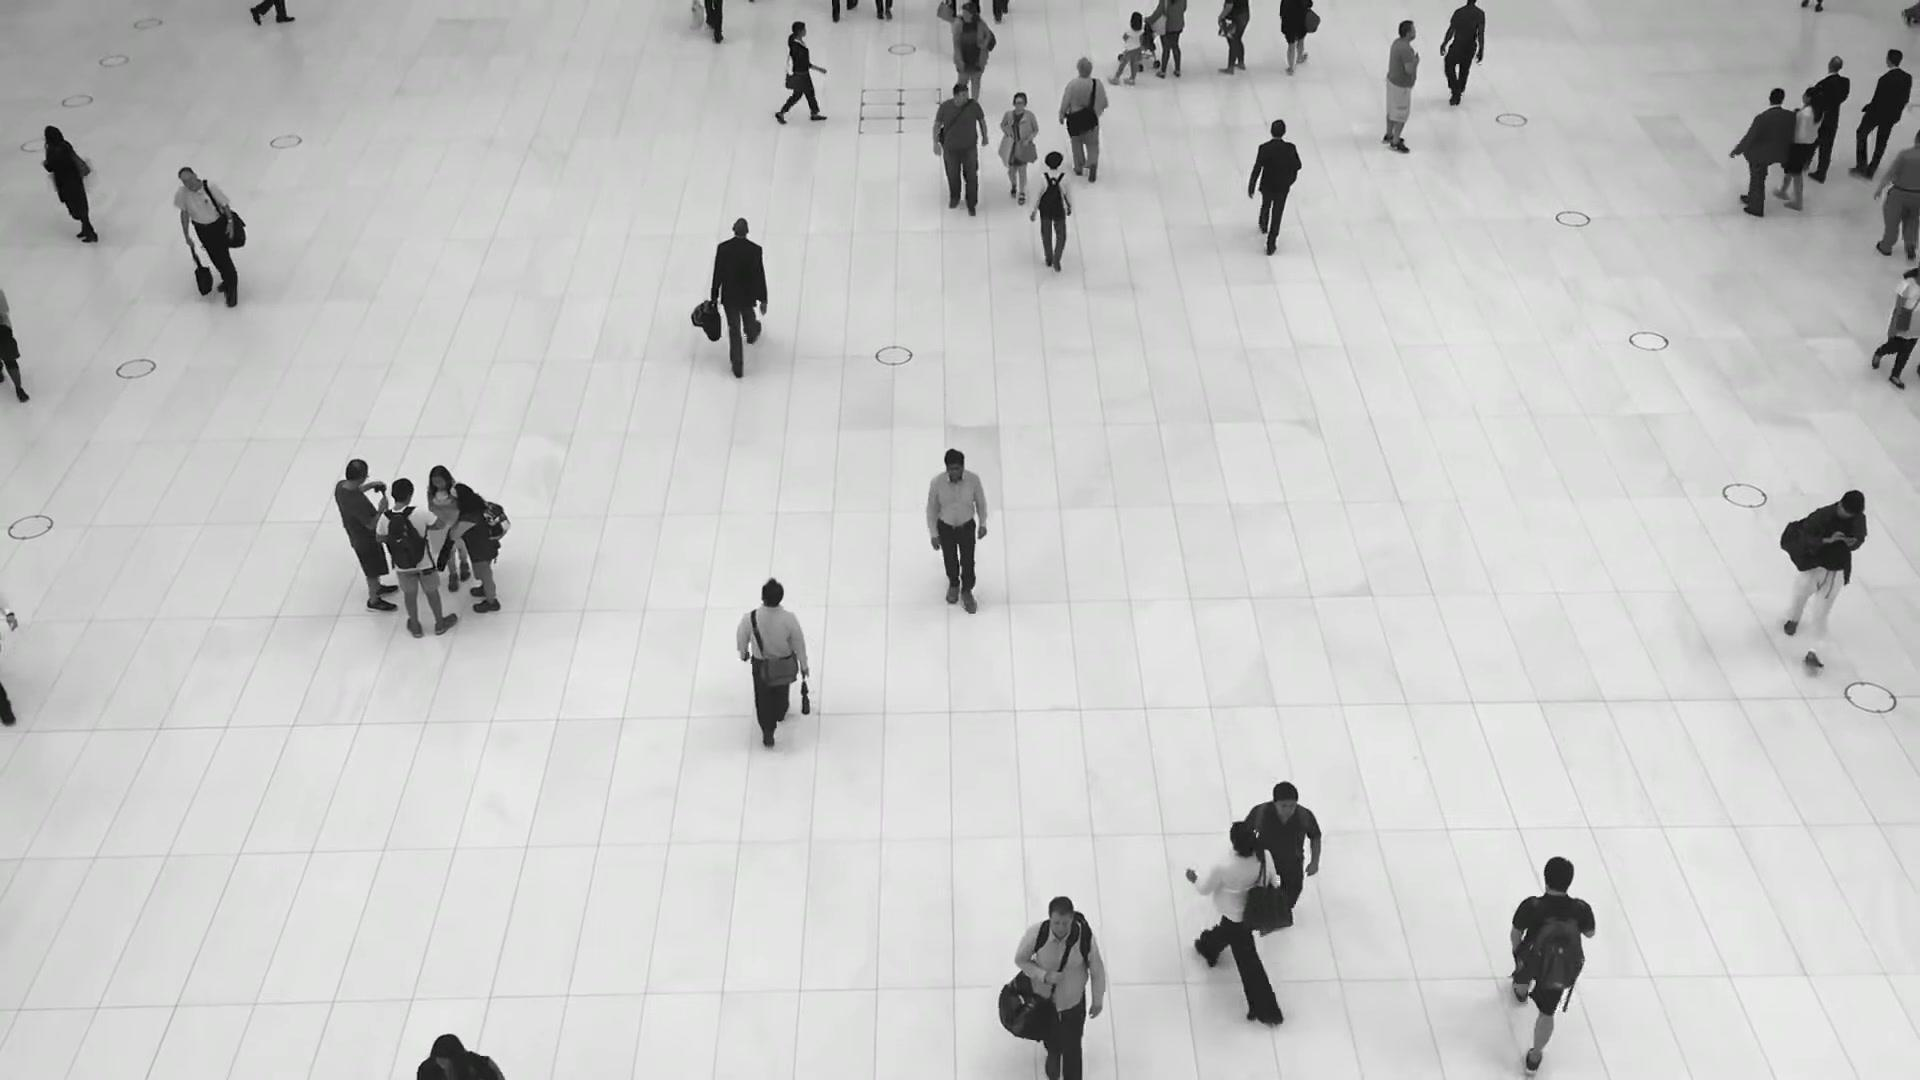person: (1506, 851, 1598, 1064), (1014, 896, 1108, 1080), (1186, 817, 1276, 1007), (1782, 489, 1869, 668), (375, 477, 460, 635), (734, 577, 809, 753), (924, 448, 992, 612), (1244, 780, 1324, 909), (334, 458, 400, 611), (173, 166, 242, 305), (711, 214, 770, 373), (1731, 86, 1795, 216), (929, 83, 990, 212), (1851, 48, 1911, 180), (1246, 116, 1303, 251), (41, 123, 99, 244), (449, 482, 501, 614), (1057, 58, 1109, 188), (1776, 85, 1824, 210), (425, 464, 470, 592), (778, 19, 831, 125), (1028, 151, 1072, 276), (1438, 0, 1485, 111), (1382, 19, 1420, 154), (1810, 56, 1850, 185), (998, 93, 1039, 209), (948, 4, 991, 99), (1111, 10, 1144, 87)
